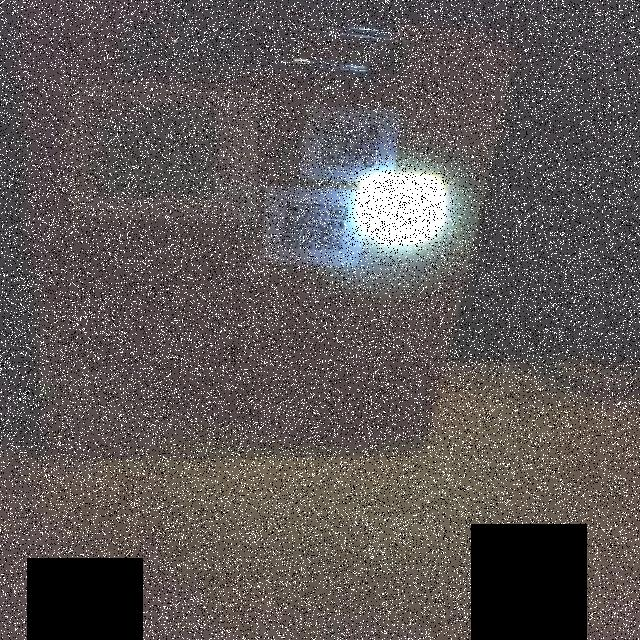QR_CODE: (72, 88, 226, 214), (308, 105, 392, 179), (274, 194, 358, 260)
